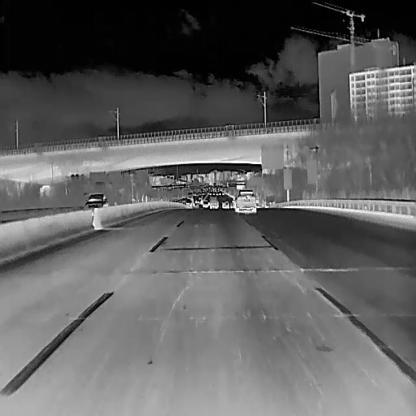car: (234, 188, 255, 212), (84, 193, 108, 208), (209, 195, 218, 207), (222, 200, 229, 208), (203, 200, 208, 207)
